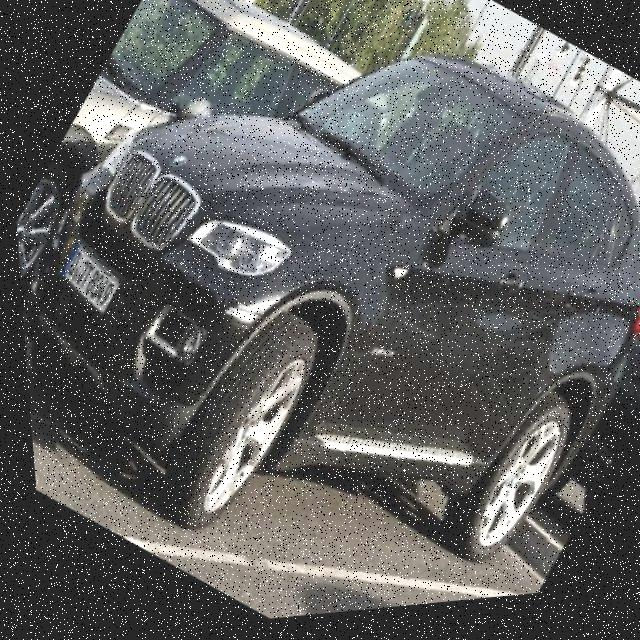license_plate: (41, 236, 128, 322)
